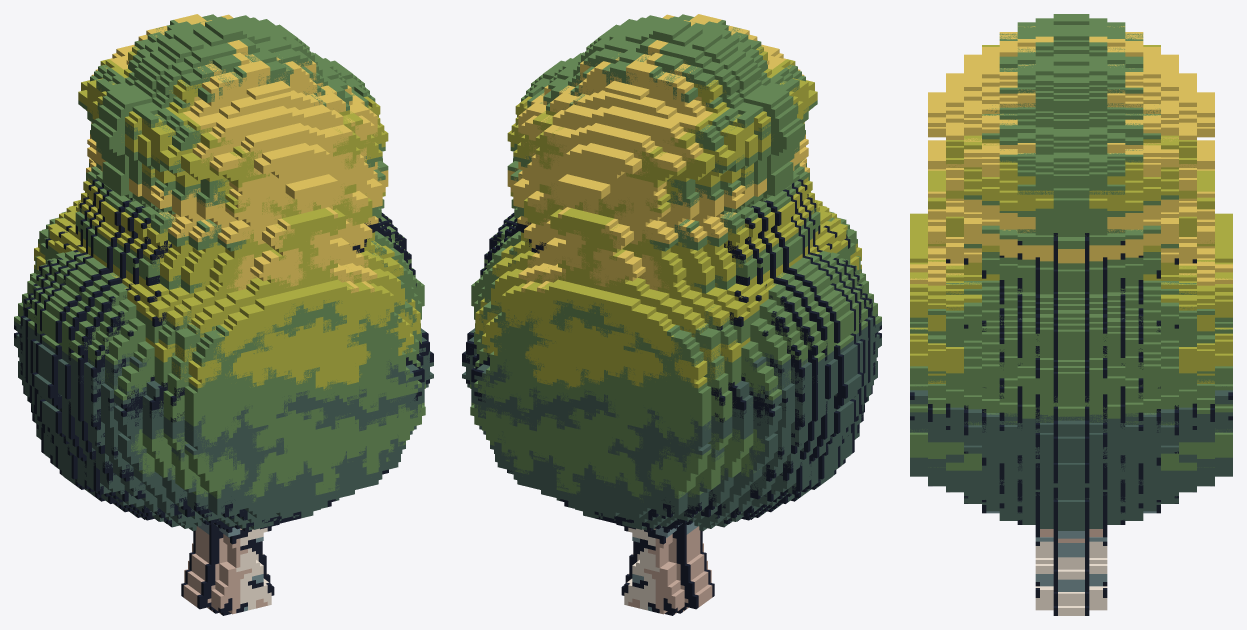
The model's file is Tree3.glb.
3 views of the same model, side by side, from view 1: azimuth 30°, elevation 25°; view 2: azimuth 150°, elevation 25°; view 3: azimuth 270°, elevation 25° (orthographic).
Parts seen in each view (by area): view 1: q0, q1, q4, q5, q7, q6, q2, q3; view 2: q0, q1, q4, q5, q7, q6, q2, q3; view 3: q1, q0, q2, q4, q7, q3, q5.
Part boxes in pixels (x1,y1,x2,y2): q0: (18, 19, 429, 615); q1: (32, 14, 433, 529); q4: (18, 14, 429, 527); q5: (18, 15, 424, 528); q7: (18, 44, 429, 523); q6: (14, 84, 424, 522); q2: (35, 14, 411, 524); q3: (35, 70, 429, 525); q0: (466, 19, 877, 615); q1: (462, 14, 863, 529); q4: (466, 14, 877, 527); q5: (470, 16, 876, 528); q7: (466, 44, 877, 519); q6: (470, 85, 881, 522); q2: (484, 14, 861, 520); q3: (466, 72, 816, 524); q1: (910, 15, 1232, 520); q0: (910, 46, 1232, 615); q2: (910, 35, 1230, 506); q4: (910, 14, 1232, 520); q7: (910, 45, 1232, 520); q3: (910, 68, 1232, 530); q5: (910, 14, 1232, 499).
Bounding box in the file's own units: 93 × 141 × 72.
1 material, 1 textured.
